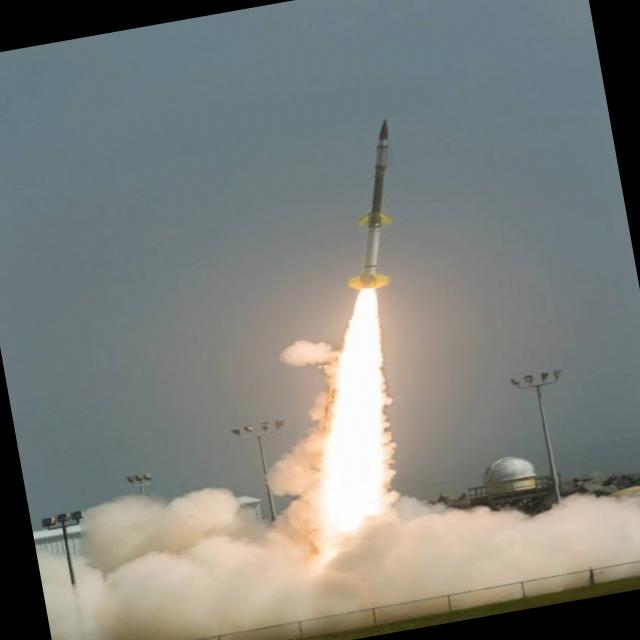rocket: (314, 107, 433, 337)
